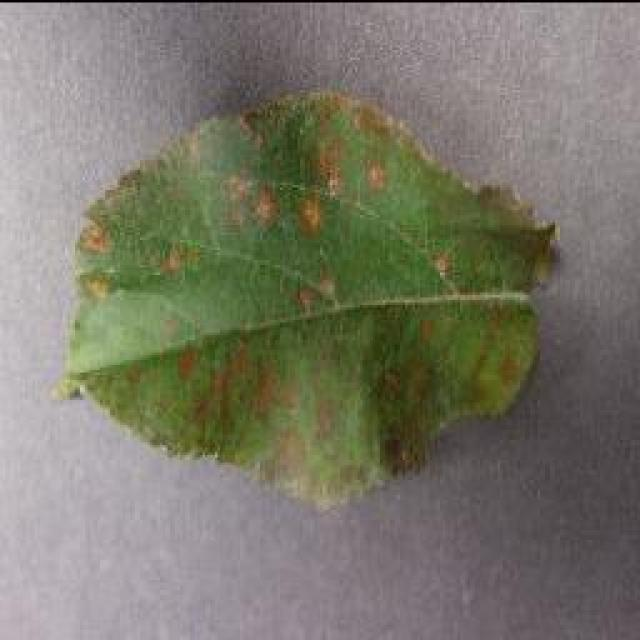apple healthy: (52, 85, 560, 510)
